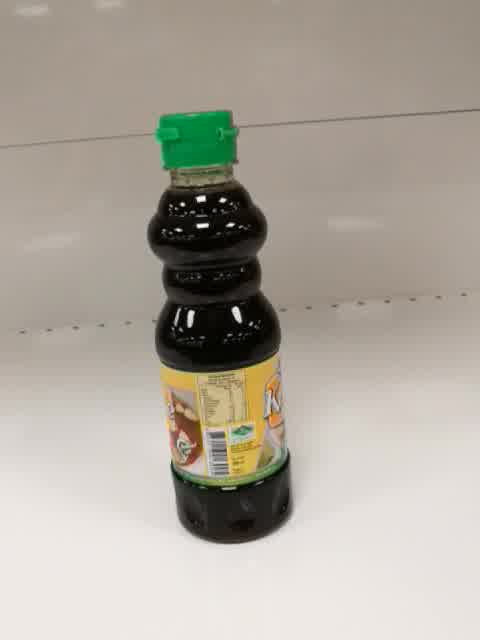cookingoil: (146, 109, 294, 546)
